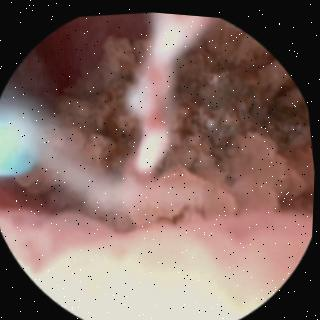fiber: (0, 106, 43, 174)
stone: (18, 19, 316, 226)
